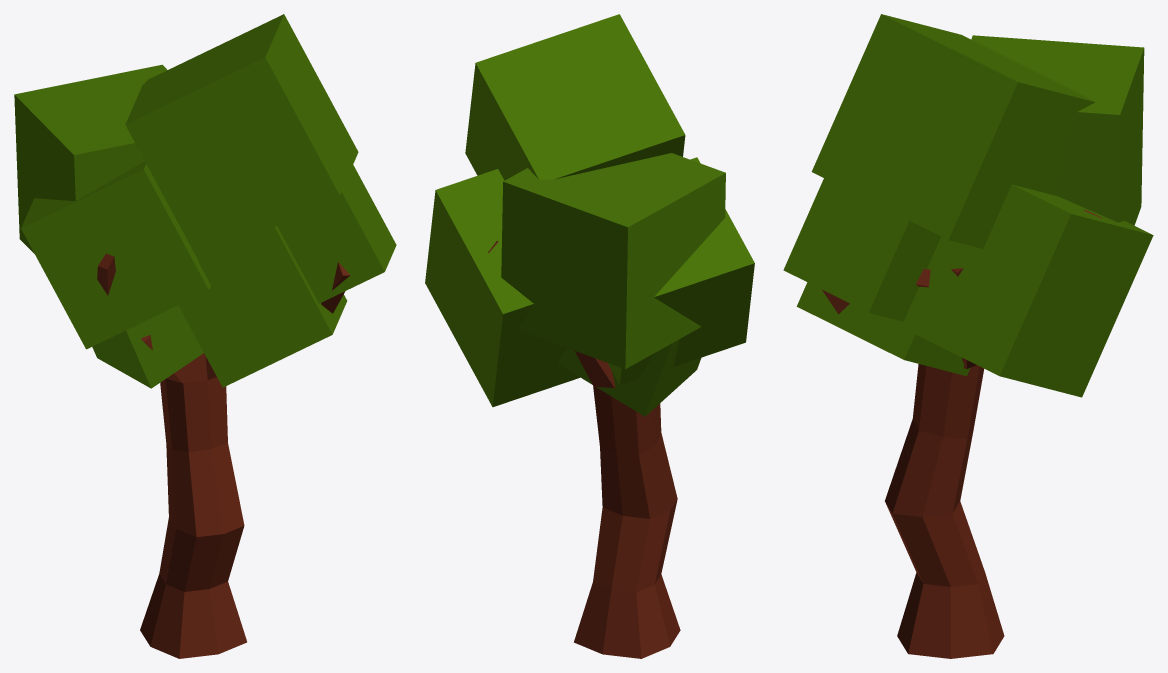
The model's file is Tree2.glb.
The picture shows the model from 3 angles, left to right: view 1: azimuth 30°, elevation 25°; view 2: azimuth 150°, elevation 25°; view 3: azimuth 270°, elevation 25°; orthographic projection. The views are drawn at different scales.
Visible parts, largest first — view 1: Leaves, Log; view 2: Leaves, Log; view 3: Leaves, Log.
Part boxes in pixels (x1,y1,x2,y2): Leaves: (14, 14, 396, 388); Log: (97, 253, 350, 658); Leaves: (425, 14, 754, 416); Log: (488, 241, 680, 658); Leaves: (783, 14, 1153, 397); Log: (822, 210, 1101, 658).
Size of the model in its own units: 11.8 by 20.16 by 10.52.
